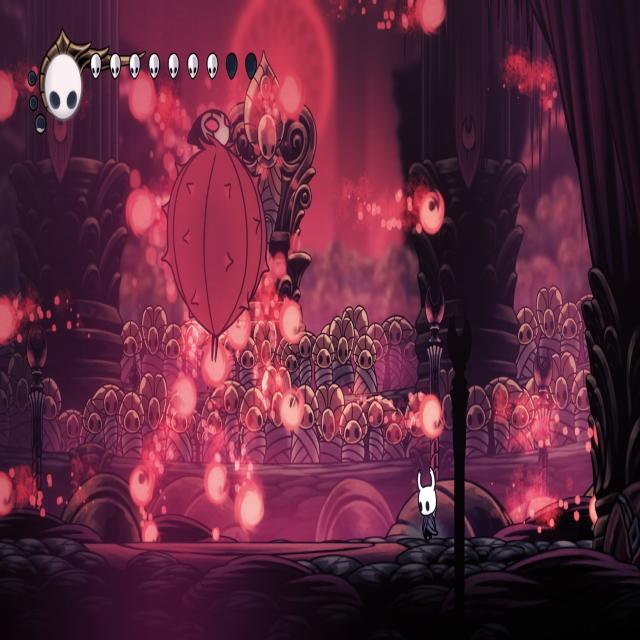Player: (416, 458, 441, 546)
Pufferfish: (158, 107, 273, 367)
Tiny Fireballs: (129, 73, 158, 125), (236, 483, 264, 530), (202, 340, 230, 387), (417, 189, 444, 234), (128, 188, 154, 234), (278, 389, 304, 432), (172, 376, 198, 419), (280, 300, 304, 345), (279, 76, 303, 121), (420, 395, 444, 439), (416, 0, 446, 35), (130, 462, 154, 504), (205, 463, 229, 505), (228, 312, 252, 352), (0, 72, 17, 123), (0, 298, 16, 345), (0, 471, 14, 518), (142, 519, 159, 542)
